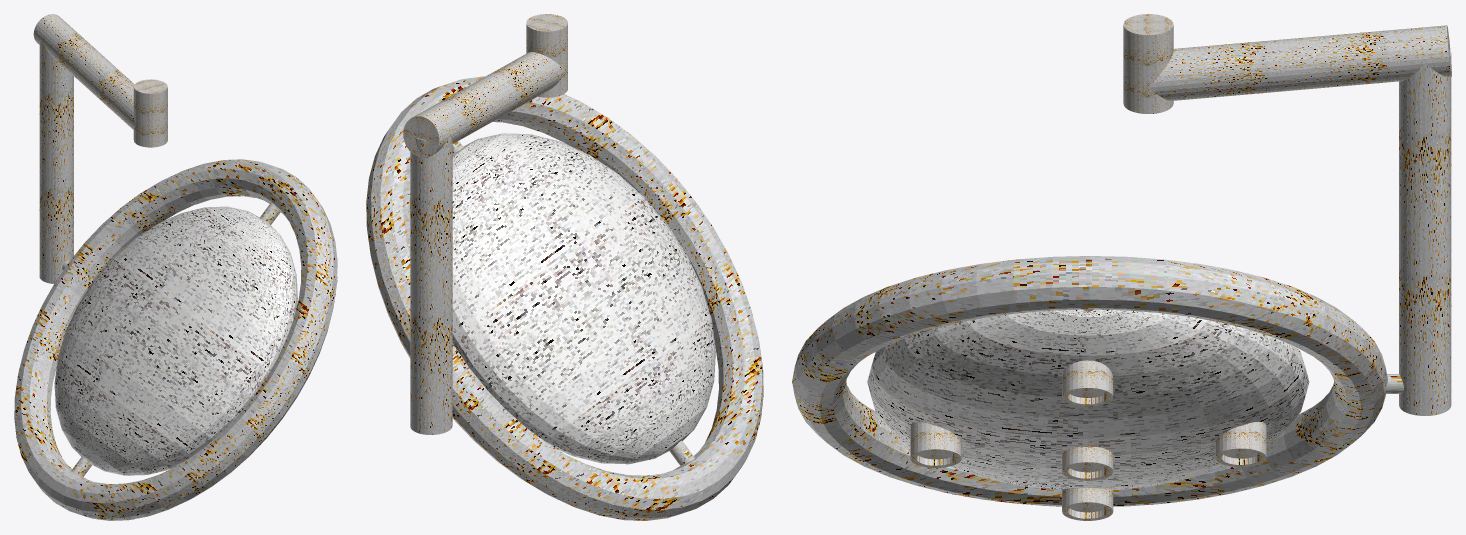
The model's file is lamp.glb.
3 views of the same model, side by side, from view 1: azimuth 30°, elevation 25°; view 2: azimuth 150°, elevation 25°; view 3: azimuth 270°, elevation 25° (orthographic). The views are drawn at different scales.
Parts seen in each view (by area): view 1: Сфера, Цилиндр.004, Цилиндр.001; view 2: Сфера, Цилиндр.004, Цилиндр.001; view 3: Сфера, Цилиндр.004, Цилиндр.001, Цилиндр.005.
Part boxes in pixels (x1,y1,x2,y2): Сфера: (54,206,297,475); Цилиндр.004: (14,159,337,520); Цилиндр.001: (33,14,167,283); Сфера: (452,133,715,464); Цилиндр.004: (366,76,763,520); Цилиндр.001: (403,14,567,434); Сфера: (867,309,1309,490); Цилиндр.004: (792,256,1403,506); Цилиндр.001: (1123,14,1451,415); Цилиндр.005: (910,360,1266,520).
Size of the model in its own units: 42.82 by 61.48 by 66.25.
2 materials, 2 textured.
